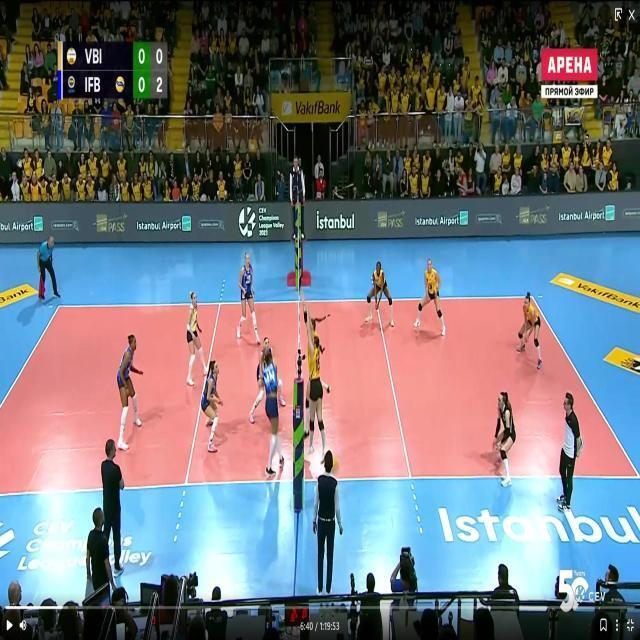volleyball: (332, 456, 338, 476)
